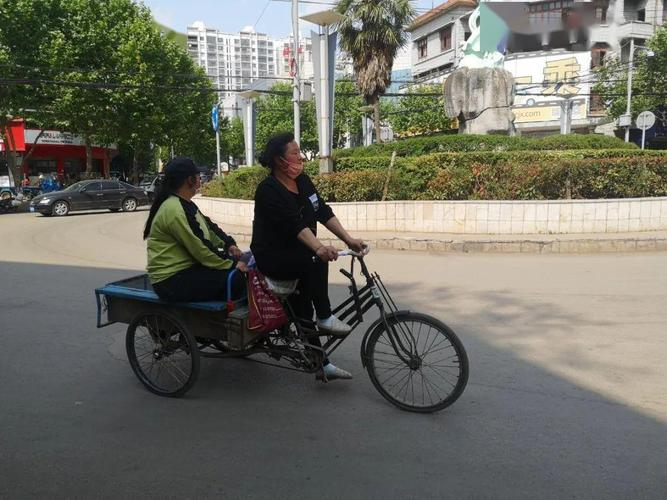driver: (252, 135, 366, 391)
empty: (91, 130, 478, 408)
passenger: (134, 154, 240, 309)
